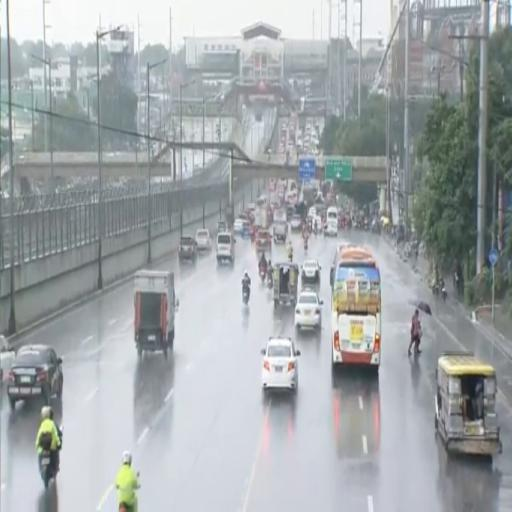bus: (331, 246, 381, 371), (326, 206, 338, 236)
car: (7, 345, 63, 410), (261, 338, 300, 391), (295, 291, 323, 329), (217, 233, 235, 264), (301, 260, 321, 286), (179, 236, 196, 262), (256, 230, 272, 250), (196, 229, 211, 250), (291, 215, 302, 231), (233, 218, 244, 234), (242, 220, 250, 237)
motorcycle: (40, 436, 58, 489), (439, 280, 447, 301), (243, 284, 250, 305), (431, 282, 440, 296), (119, 502, 133, 511), (267, 269, 273, 289), (259, 265, 266, 282), (364, 218, 369, 230), (287, 252, 293, 262), (304, 238, 308, 251), (313, 223, 317, 234)
truck: (134, 270, 179, 358), (273, 210, 287, 243), (254, 207, 268, 229)
